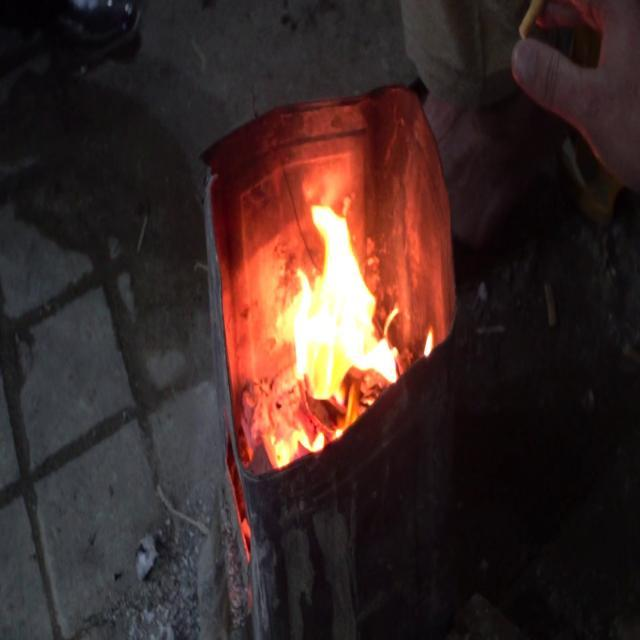Fire: (285, 177, 405, 418)
